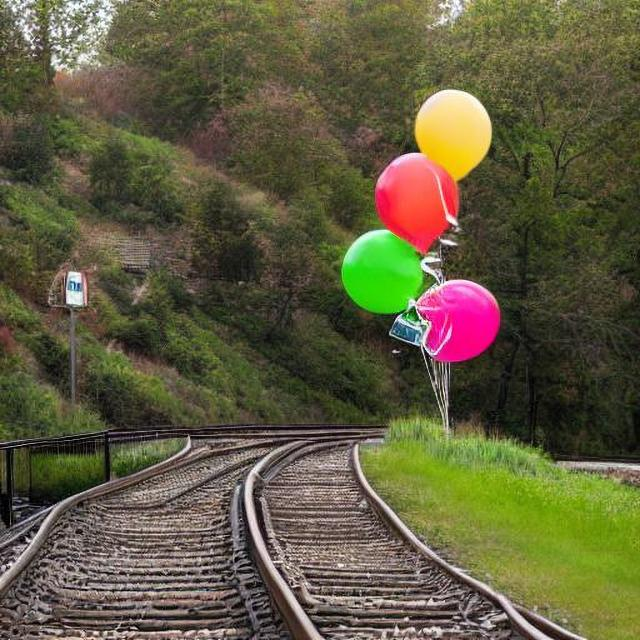balloon: (322, 81, 516, 366)
